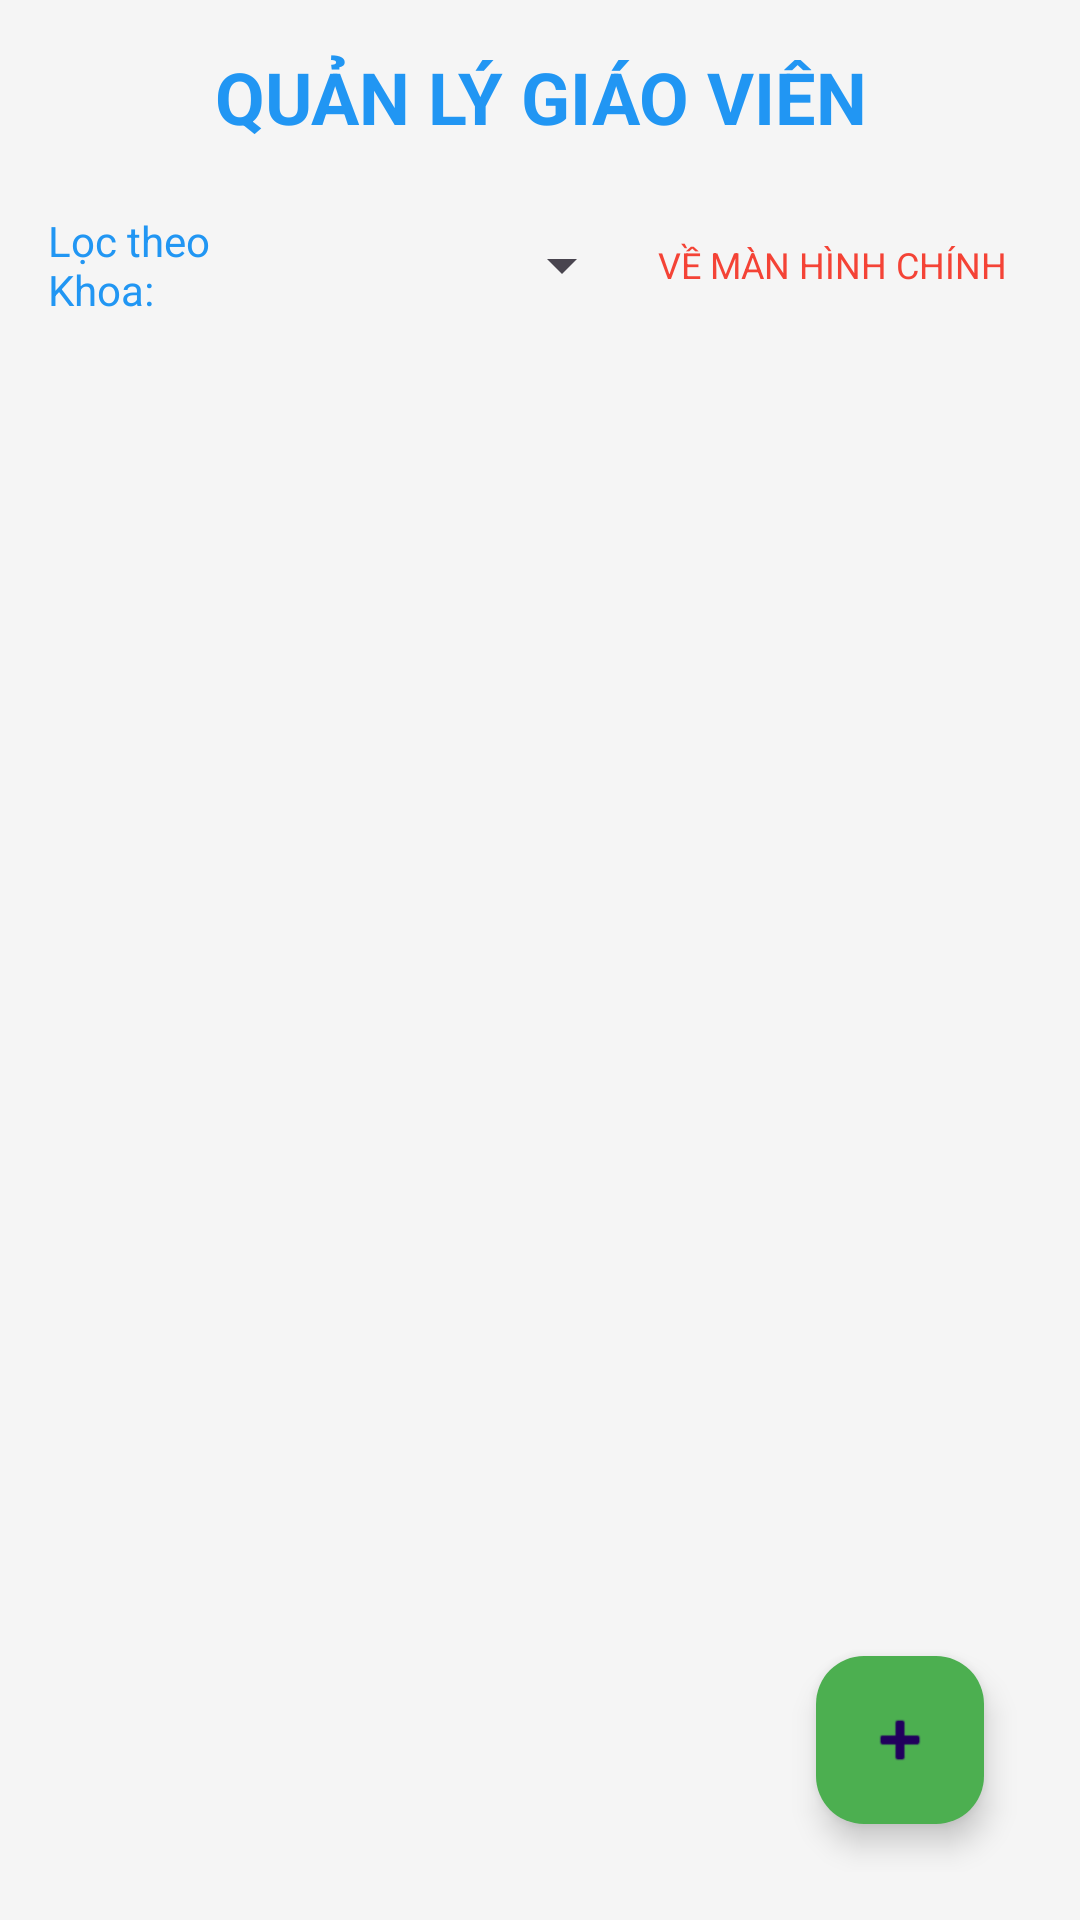

Named icons in this screenshot (1080px x 1920px) and their centers, [x,y]:
Thêm giáo viên mới: [900,1740]
